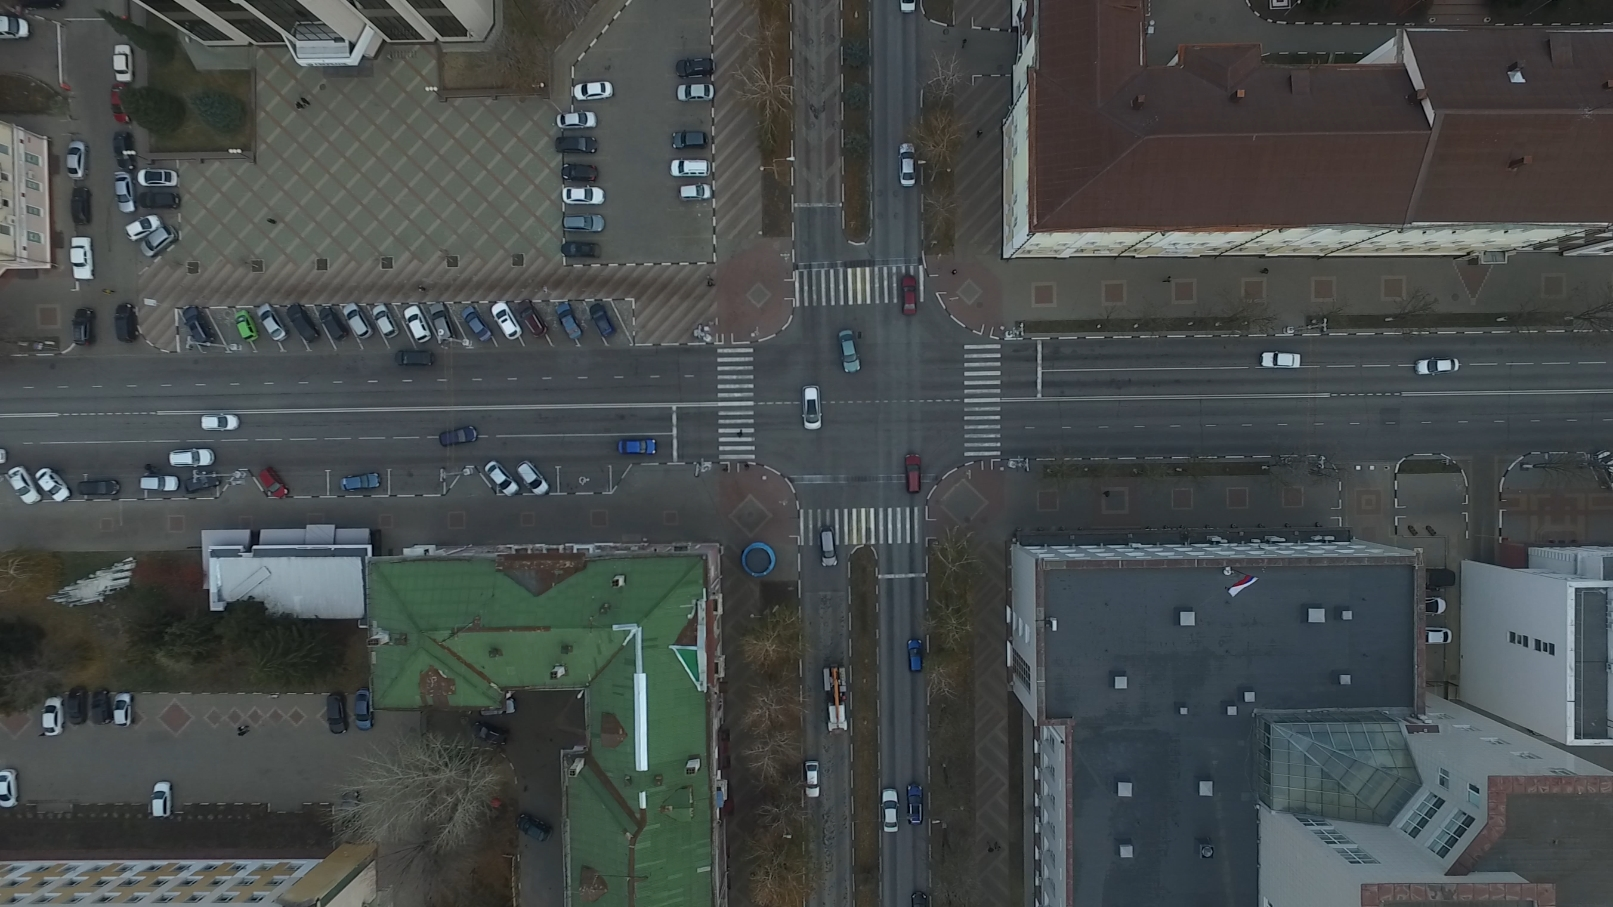car: (818, 667, 852, 732), (179, 305, 219, 347), (486, 302, 526, 342), (480, 458, 521, 496), (254, 302, 290, 342), (285, 305, 320, 346), (6, 465, 43, 503), (340, 301, 374, 341), (137, 223, 177, 257), (69, 235, 97, 281), (514, 300, 548, 338), (427, 300, 456, 342), (120, 212, 162, 241), (35, 466, 70, 503), (514, 812, 553, 844), (553, 300, 583, 341), (515, 460, 549, 495), (255, 465, 290, 499), (458, 305, 491, 341), (400, 305, 432, 342), (323, 691, 349, 738), (338, 790, 364, 834), (471, 720, 510, 750), (368, 303, 401, 338), (838, 329, 862, 375), (316, 306, 347, 342), (672, 56, 719, 81), (112, 171, 138, 213), (38, 695, 65, 735), (113, 302, 138, 346), (1412, 355, 1465, 377), (148, 779, 175, 820), (63, 142, 90, 183), (111, 130, 137, 171), (106, 78, 131, 121), (111, 42, 138, 80), (88, 688, 114, 726), (800, 386, 822, 432), (559, 184, 605, 206), (351, 687, 374, 730), (135, 188, 179, 210), (587, 303, 616, 337), (135, 165, 178, 187), (573, 80, 616, 102), (818, 525, 841, 566), (71, 306, 94, 347), (167, 447, 217, 466), (64, 687, 88, 726), (881, 789, 901, 835), (672, 82, 716, 103), (552, 135, 599, 154), (394, 348, 436, 369), (561, 213, 607, 231), (74, 480, 121, 498), (69, 185, 91, 224), (233, 310, 259, 342), (436, 427, 479, 447), (670, 157, 712, 177), (556, 109, 598, 128), (339, 472, 383, 491), (1, 767, 21, 808), (182, 472, 220, 493), (897, 142, 916, 185), (110, 693, 134, 726), (802, 759, 822, 798), (558, 162, 598, 182), (898, 274, 917, 316), (671, 128, 709, 150), (904, 452, 922, 495), (677, 183, 715, 203), (559, 241, 600, 259), (907, 783, 924, 826), (1, 16, 31, 39), (1422, 567, 1453, 589), (201, 412, 239, 430), (1262, 351, 1303, 368), (613, 439, 656, 454), (138, 475, 179, 491), (1422, 626, 1453, 643), (907, 637, 923, 671), (1425, 597, 1447, 614), (910, 891, 929, 907), (900, 1, 916, 12)
